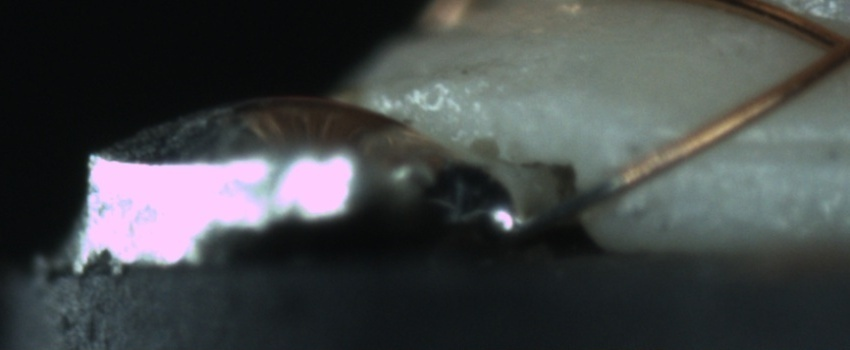CL: (804, 14, 850, 78)
DL: (698, 110, 849, 179)
TS: (497, 173, 630, 235)
